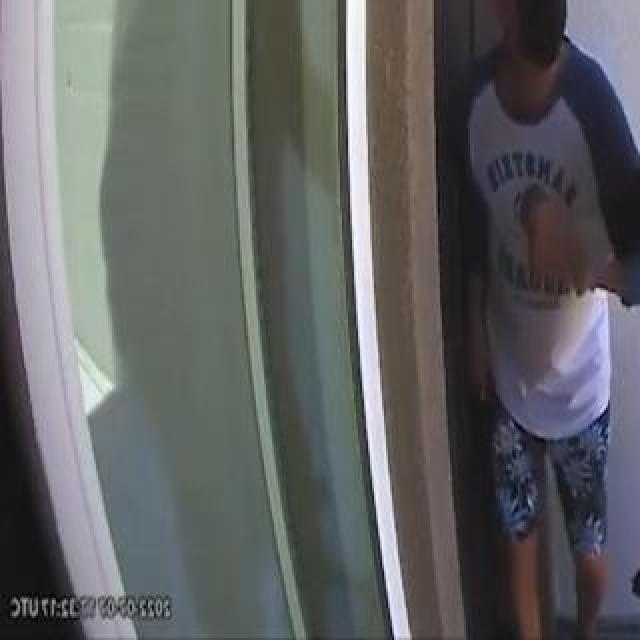Guns: (614, 508, 640, 622)
